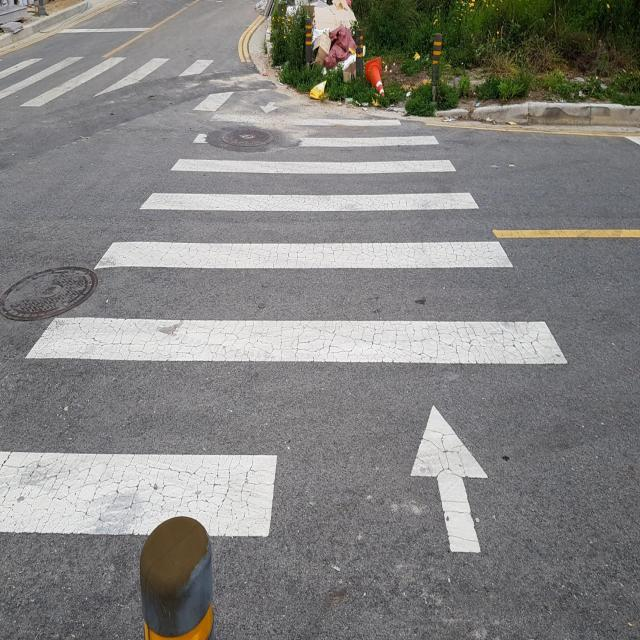횡단보도: (0, 109, 573, 558), (1, 57, 252, 109)
